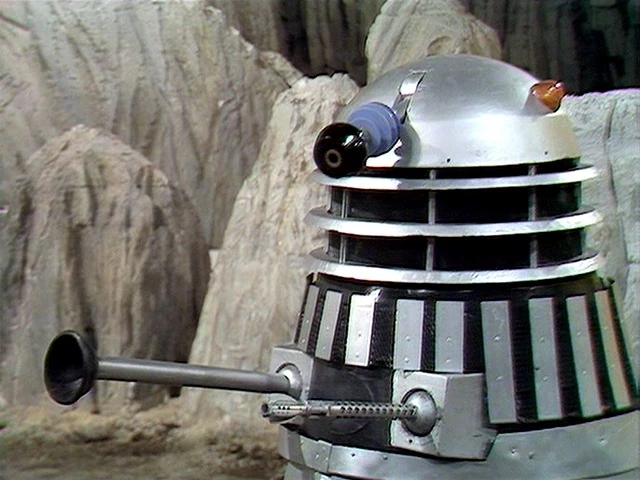Dalek: (246, 48, 640, 480)
